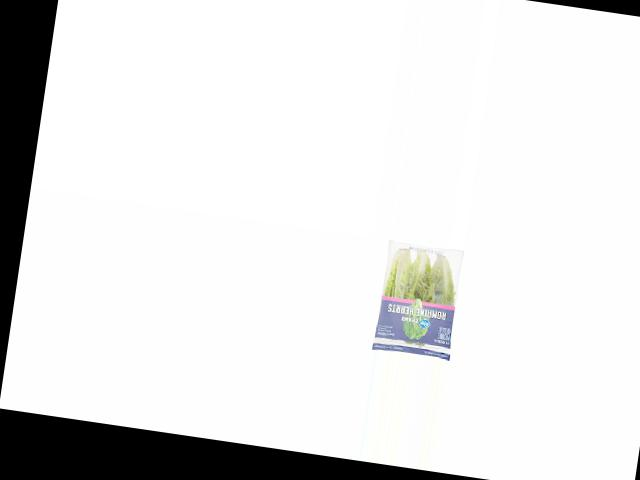lettuce: (368, 242, 468, 359)
